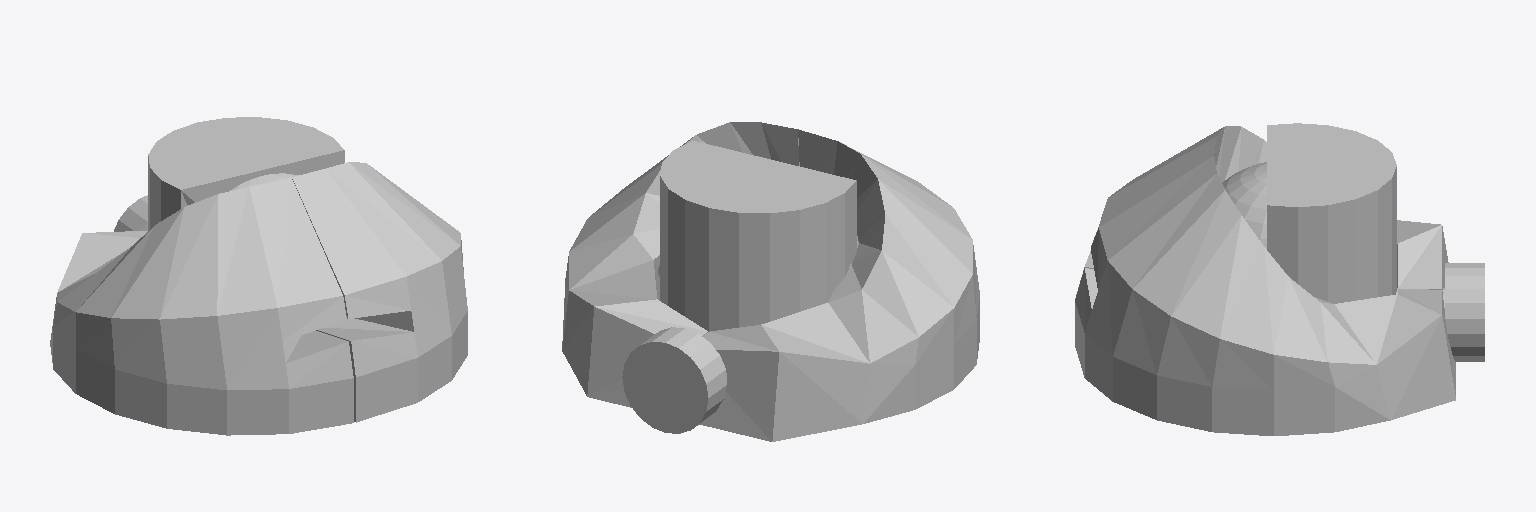
File: Armer_Boss.obj
The picture shows the model from 3 angles: view 1: azimuth 30°, elevation 25°; view 2: azimuth 150°, elevation 25°; view 3: azimuth 270°, elevation 25°; orthographic projection.
Visible parts, largest first — view 1: Core Neji R_Armer, Core Neji L_Armer, Core Neji Back_Armer, Core Neji; view 2: Core Neji R_Armer, Core Neji Back_Armer, Core Neji L_Armer, Core Neji; view 3: Core Neji L_Armer, Core Neji Back_Armer, Core Neji R_Armer, Core Neji, Core Body.
Boxes of the visible parts, x1,y1,x2,y2 form: Core Neji R_Armer: [50, 177, 353, 435]; Core Neji L_Armer: [292, 162, 467, 422]; Core Neji Back_Armer: [148, 117, 344, 230]; Core Neji: [114, 195, 147, 231]; Core Neji R_Armer: [699, 129, 979, 441]; Core Neji Back_Armer: [660, 140, 856, 331]; Core Neji L_Armer: [562, 122, 799, 407]; Core Neji: [622, 327, 726, 433]; Core Neji L_Armer: [1075, 156, 1455, 435]; Core Neji Back_Armer: [1267, 123, 1396, 303]; Core Neji R_Armer: [1075, 126, 1448, 298]; Core Neji: [1396, 263, 1484, 361]; Core Body: [1222, 162, 1266, 248].
Size of the model in its own units: 4.26 by 2.26 by 4.12.